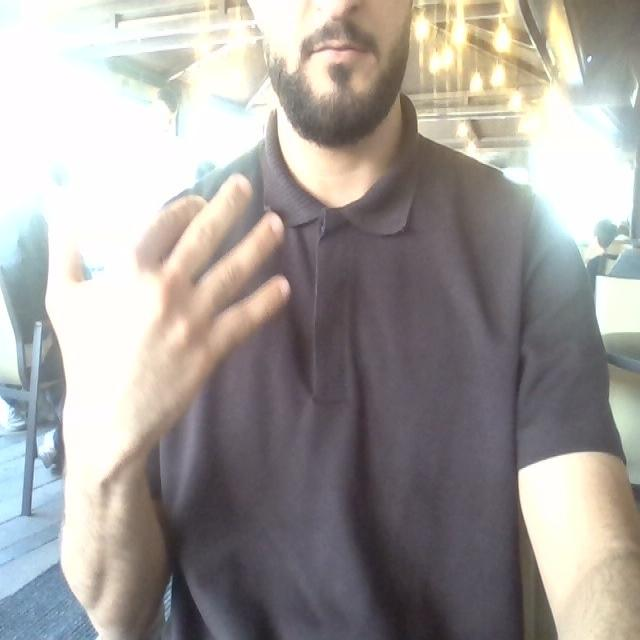Hand: (47, 176, 288, 474)
